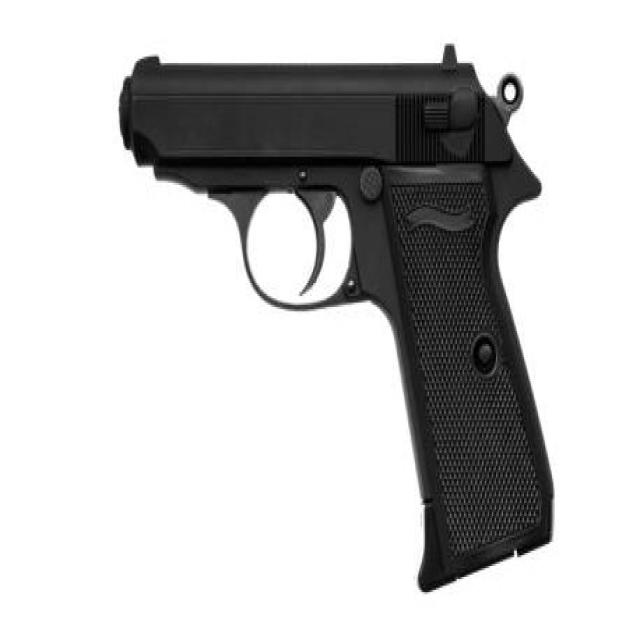pistol: (108, 40, 564, 598)
